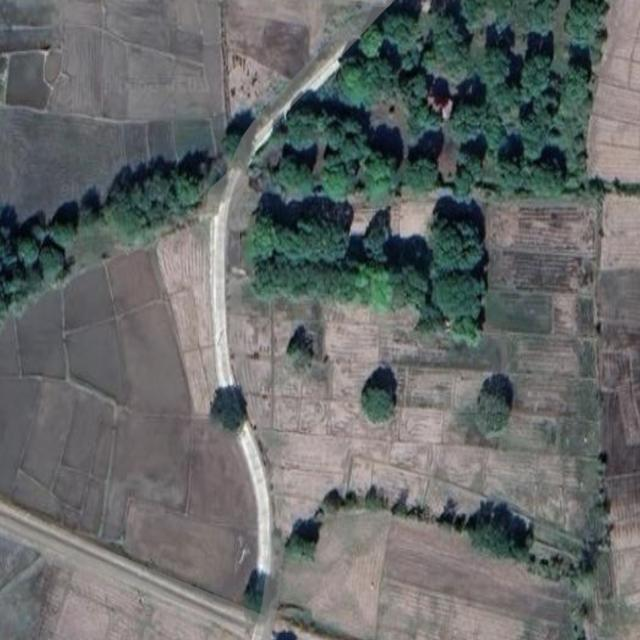Tree: (249, 260, 355, 311), (276, 203, 353, 270), (421, 203, 484, 276), (422, 268, 492, 327), (467, 517, 528, 569), (104, 190, 150, 250), (471, 380, 518, 437), (367, 258, 406, 323), (482, 74, 527, 122), (359, 370, 396, 428), (173, 164, 214, 216), (358, 150, 397, 204), (239, 211, 280, 260), (274, 155, 316, 202), (422, 48, 467, 90), (564, 0, 605, 46), (462, 0, 515, 35), (416, 8, 460, 50), (282, 104, 318, 154), (208, 389, 247, 432), (337, 61, 376, 103), (282, 526, 321, 568), (316, 110, 358, 148), (518, 51, 549, 102), (454, 97, 487, 144), (398, 262, 429, 312), (560, 63, 589, 114), (527, 160, 566, 197), (343, 262, 370, 314), (380, 13, 416, 52), (341, 130, 379, 166), (285, 327, 314, 374), (479, 110, 507, 158), (321, 158, 352, 200), (366, 211, 392, 260), (33, 244, 63, 286), (403, 72, 435, 110), (408, 102, 443, 136), (494, 156, 523, 196), (448, 314, 480, 349), (402, 160, 437, 192), (530, 0, 558, 40), (144, 196, 174, 233), (0, 292, 26, 334), (222, 116, 244, 165), (0, 225, 20, 275), (144, 171, 174, 204), (358, 22, 383, 61), (476, 50, 506, 82), (458, 146, 483, 181), (128, 172, 150, 211), (511, 0, 538, 31), (16, 231, 40, 265), (361, 482, 384, 517), (73, 203, 97, 233), (3, 274, 33, 297), (319, 491, 341, 518), (451, 172, 473, 197), (50, 223, 70, 246), (344, 490, 358, 509)
